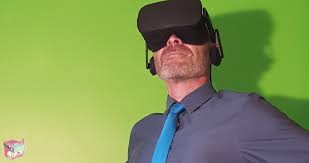oculus: (137, 3, 212, 49)
